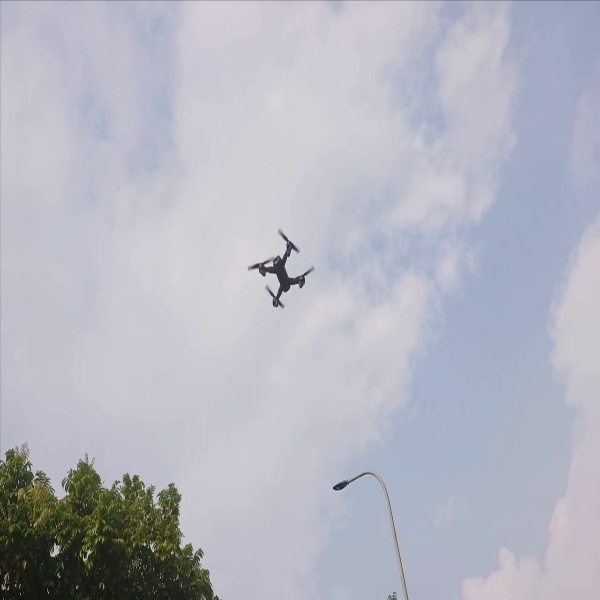drone: (239, 227, 325, 313)
